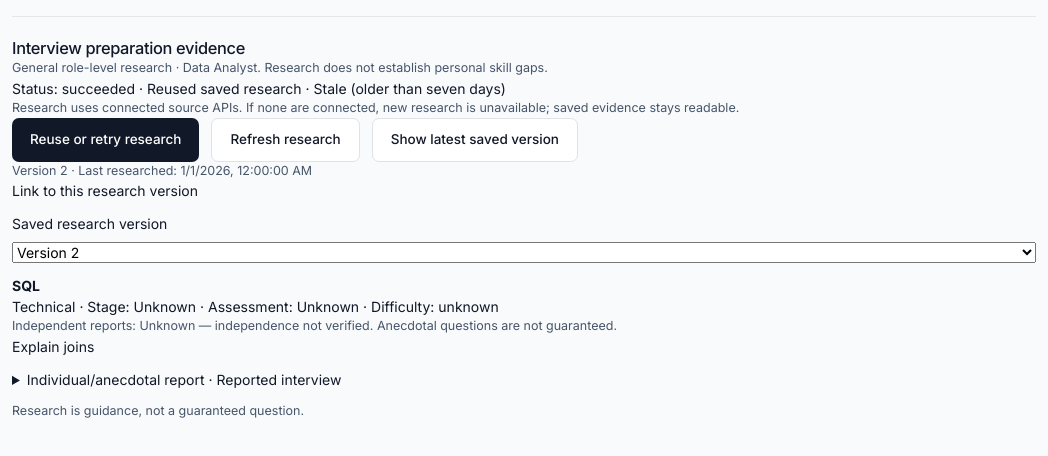
a failed research refresh preserves saved topics and sends no user source links
This screenshot has width=1048, height=456.
Expected: the heading "SQL" is shown, [12, 277, 40, 294]
Click the button "Refresh research": (286, 140) [212, 118, 360, 162]
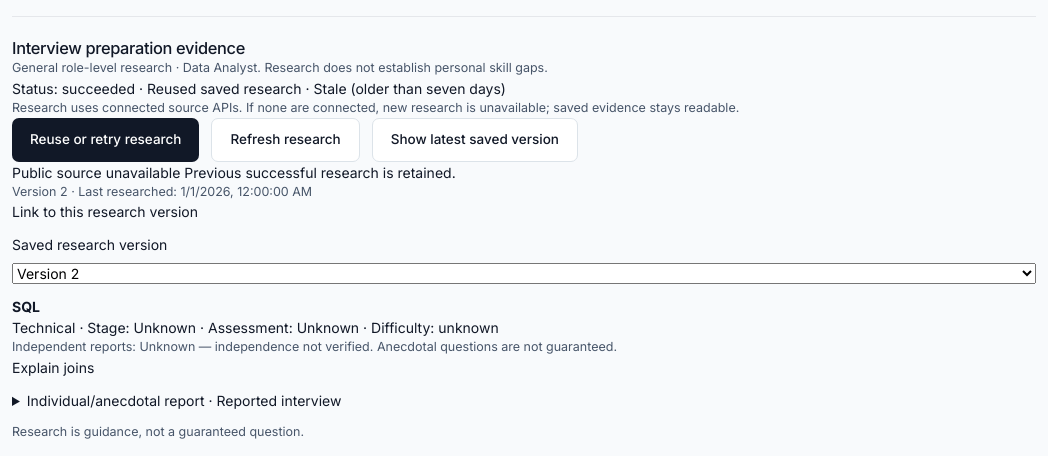
Expected: the heading "SQL" is shown, [12, 298, 40, 315]
Now the message "Public source unavailable Previous successful research is retained." is shown, box [12, 164, 456, 181]
